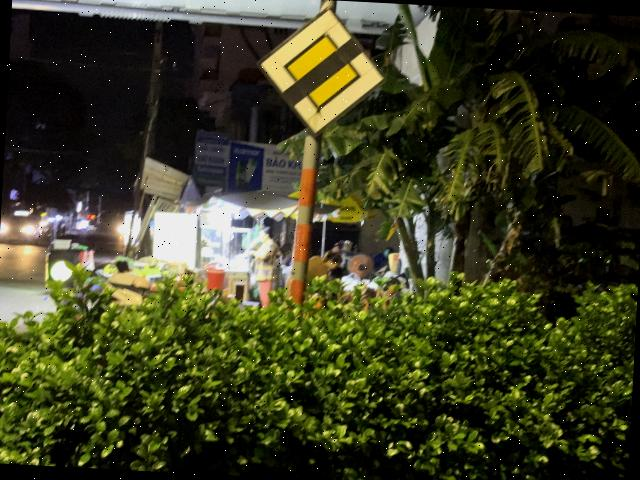het-duong-uu-tien: (253, 1, 392, 142)
